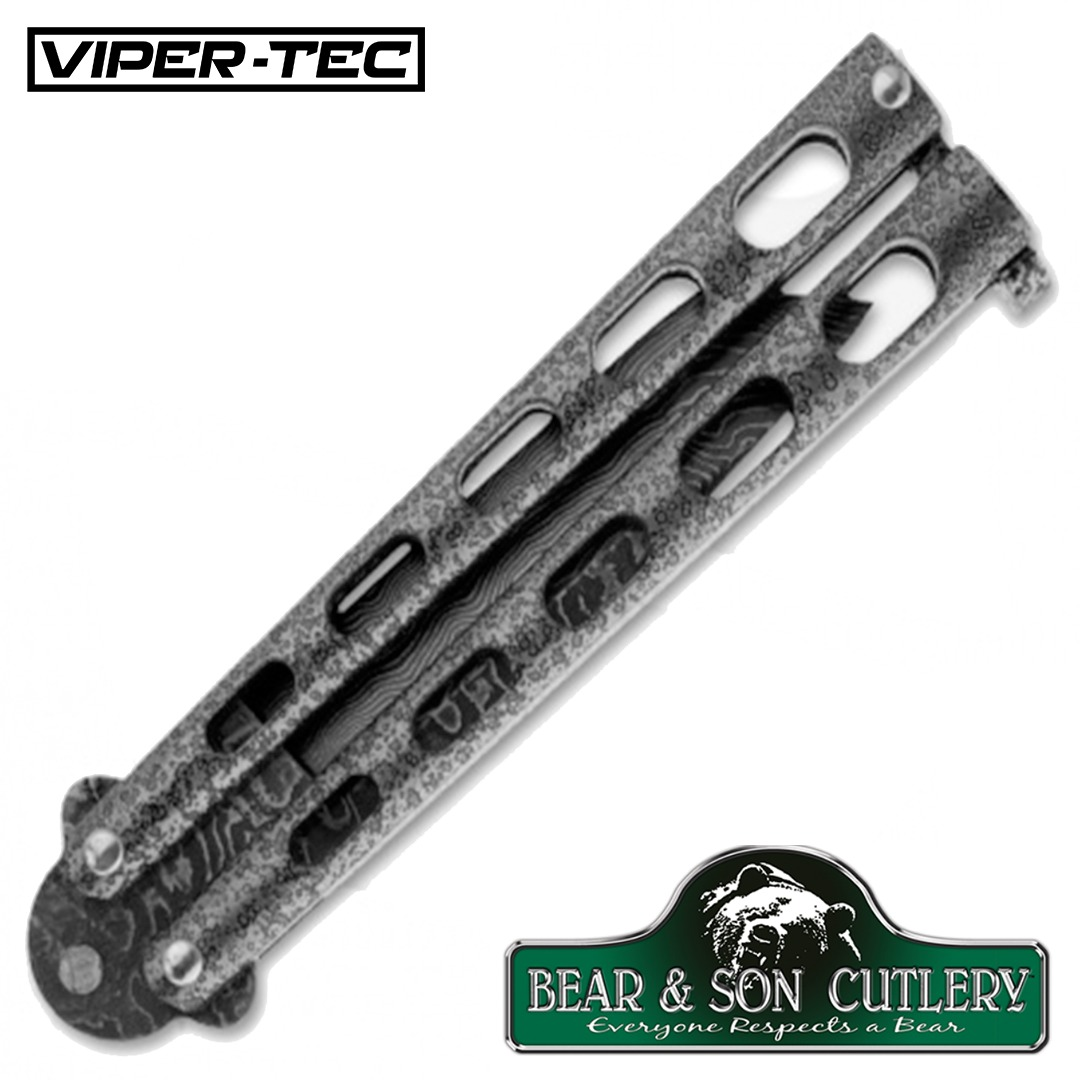knife: (18, 42, 1057, 1034)
